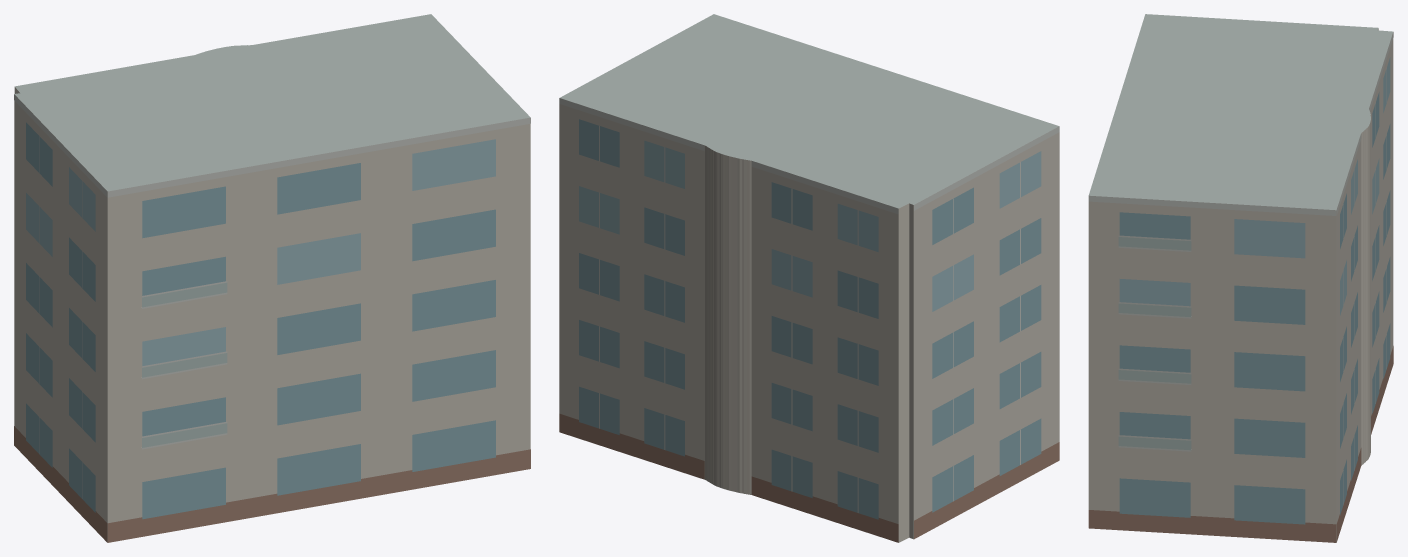
File: survey-upis-32672021.glb
The picture shows the model from 3 angles, left to right: view 1: azimuth 30°, elevation 25°; view 2: azimuth 150°, elevation 25°; view 3: azimuth 270°, elevation 25°; orthographic projection. The views are drawn at different scales.
Parts seen in each view (by area): view 1: survey-upis-32672021.tmp; view 2: survey-upis-32672021.tmp; view 3: survey-upis-32672021.tmp.
Boxes of the visible parts, left/top/right/bottom form: survey-upis-32672021.tmp: left=14, top=14, right=530, bottom=542; survey-upis-32672021.tmp: left=559, top=14, right=1059, bottom=542; survey-upis-32672021.tmp: left=1088, top=14, right=1393, bottom=542.
Size of the model in its own units: 17.46 by 13.8 by 11.47.
